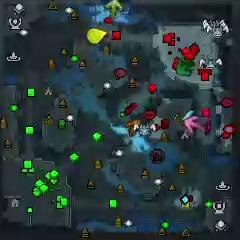p4: (87, 27, 108, 44)
x1: (184, 115, 204, 133)
x2: (105, 0, 122, 17)
x3: (183, 110, 195, 122)
x4: (176, 58, 193, 77)
x5: (125, 118, 144, 138)
